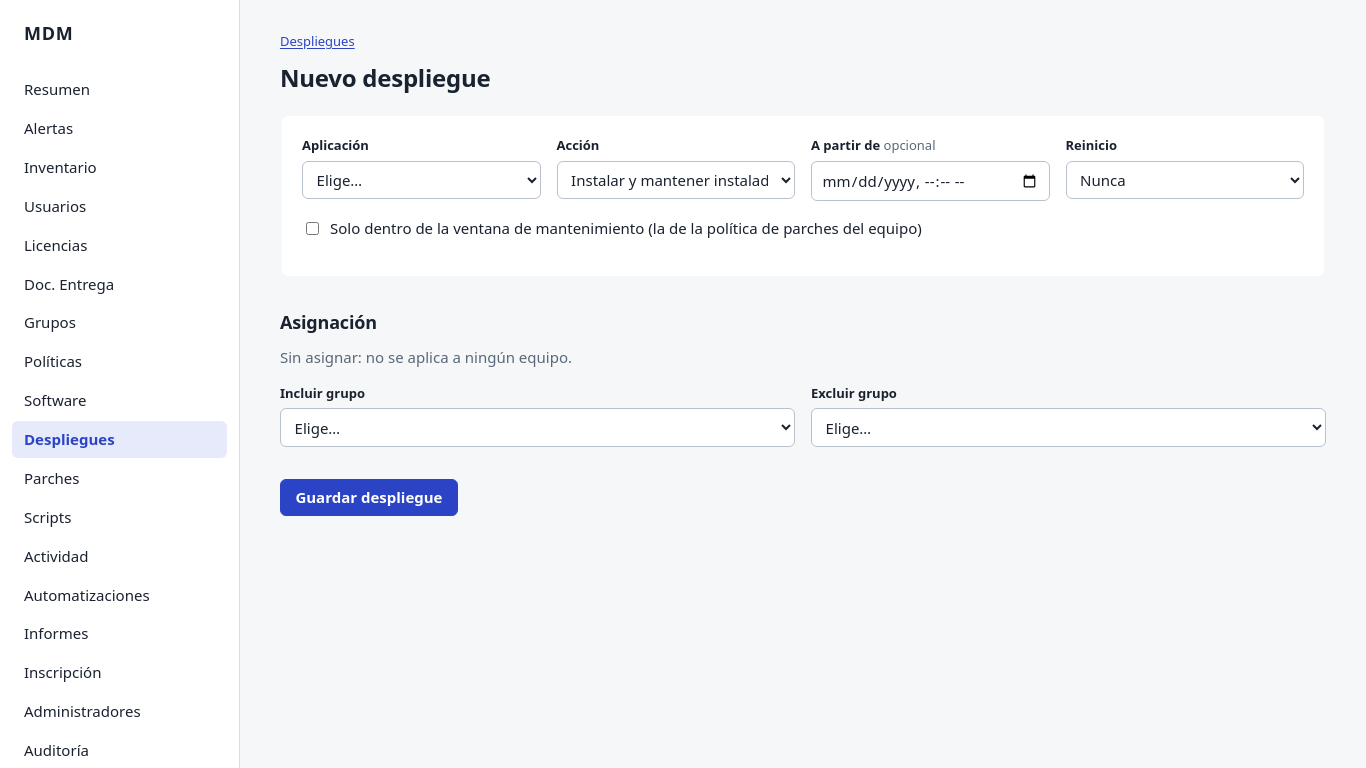
Test case: Despliegues › mantener actualizada solo se ofrece para winget, apt y dnf
Select "Contabilidad Pro" in the dropdown labelled "Aplicación". click: {"x": 421, "y": 180}
box: [302,161,540,199]
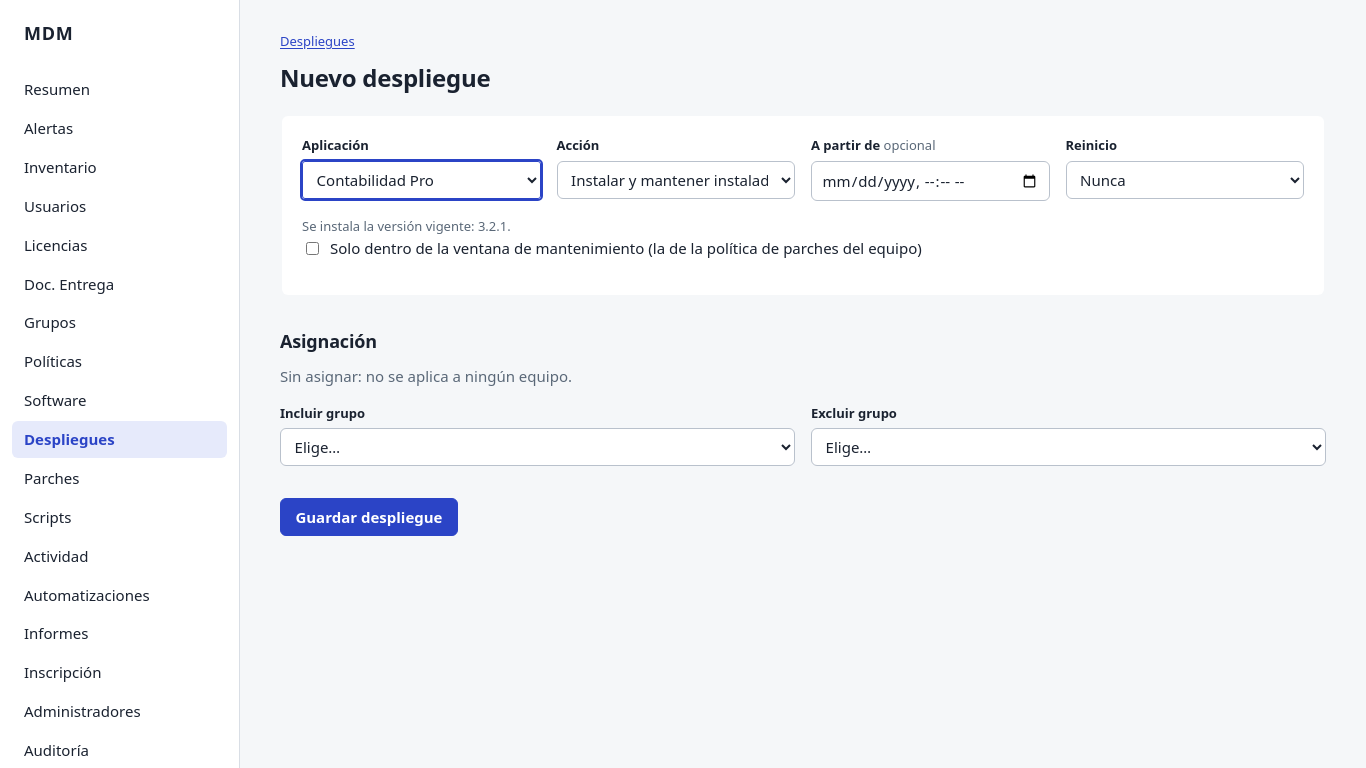
Expected: the field labelled "Mantener actualizada" is not shown
Select "Firefox" in the dropdown labelled "Aplicación". click: {"x": 421, "y": 180}
box: [302,161,540,199]
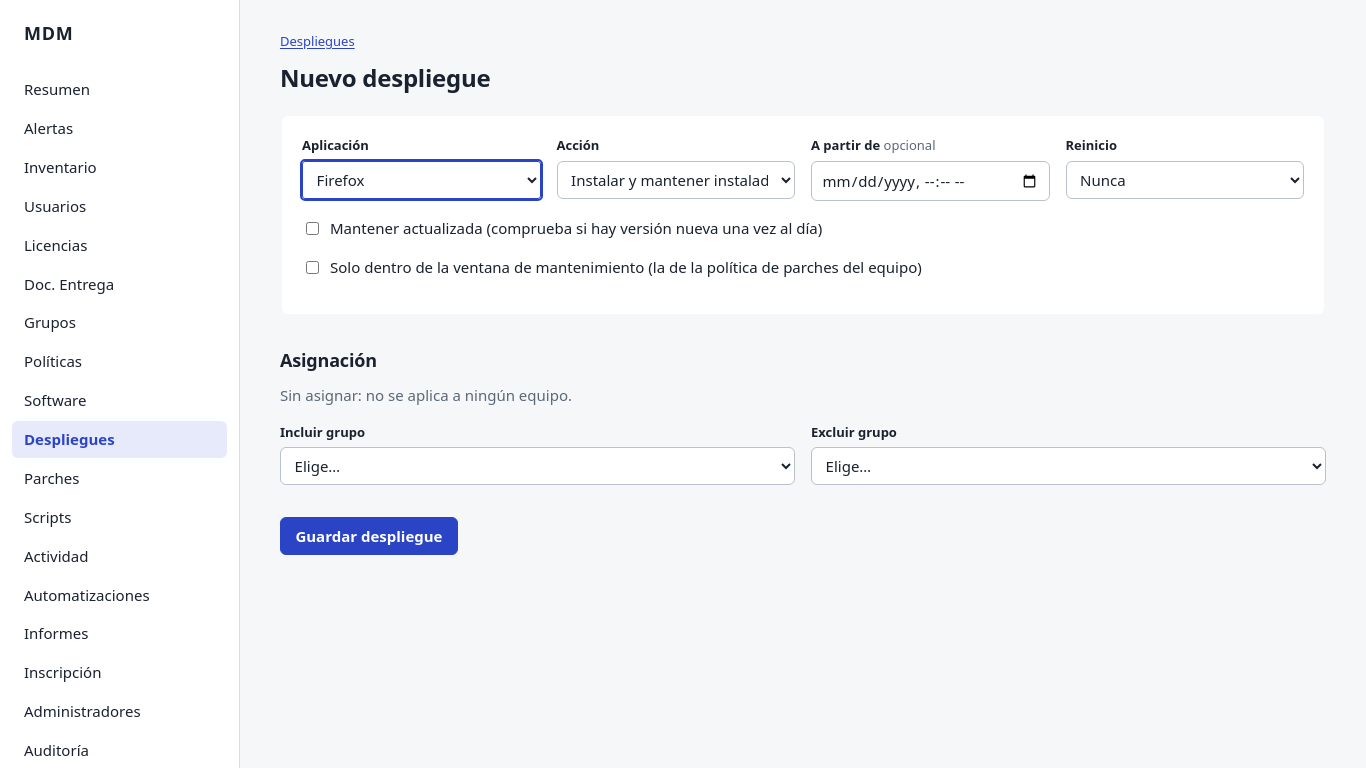
Expected: the checkbox labelled "Mantener actualizada" is shown, [306,222,319,235]
